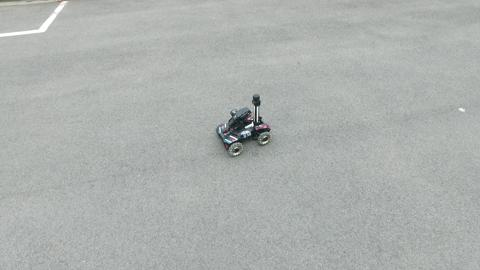chariot: (216, 109, 278, 156)
